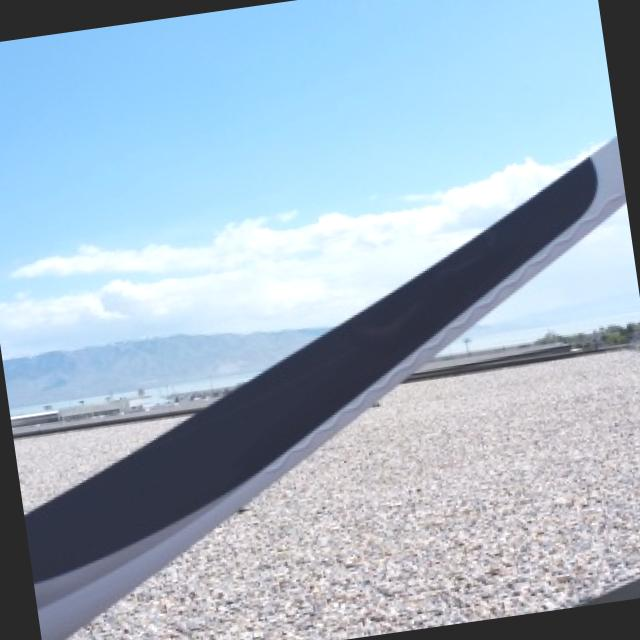healthy: (30, 137, 626, 640)
